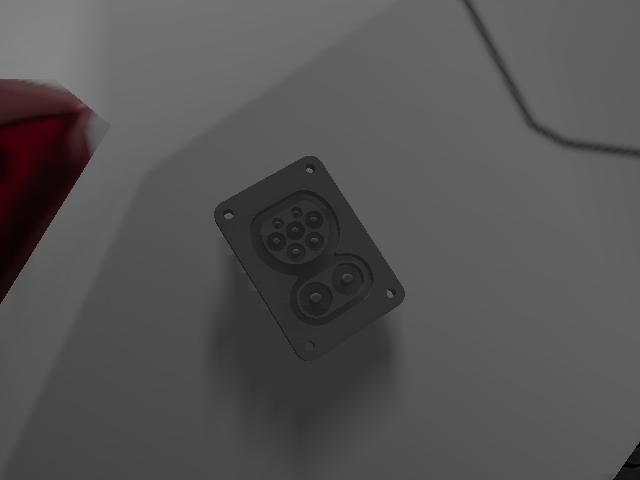EV-socket: (213, 151, 413, 371)
